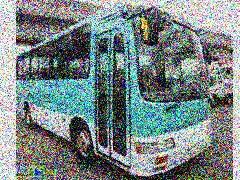bus: (17, 3, 218, 174)
